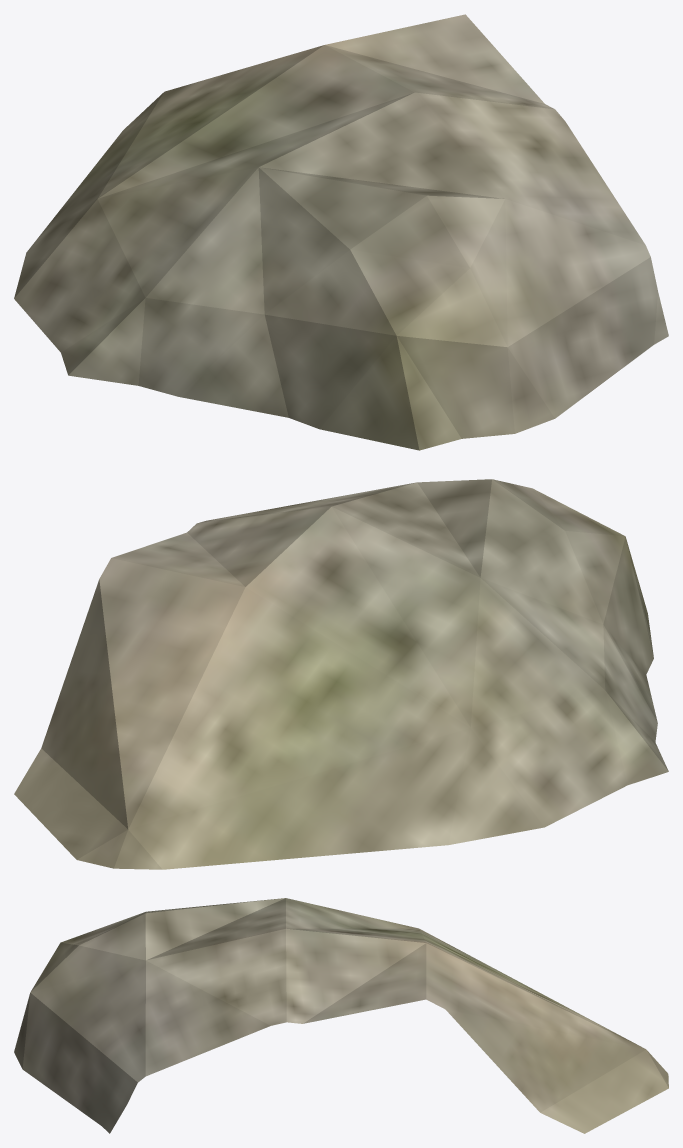
3 views of the same model, one above another, from view 1: azimuth 30°, elevation 25°; view 2: azimuth 150°, elevation 25°; view 3: azimuth 270°, elevation 25° (orthographic). The views are drawn at different scales.
Bounding box in the file's own units: 1.95 × 0.7391 × 2.89.
Materials: 1 (1 with a texture image).
